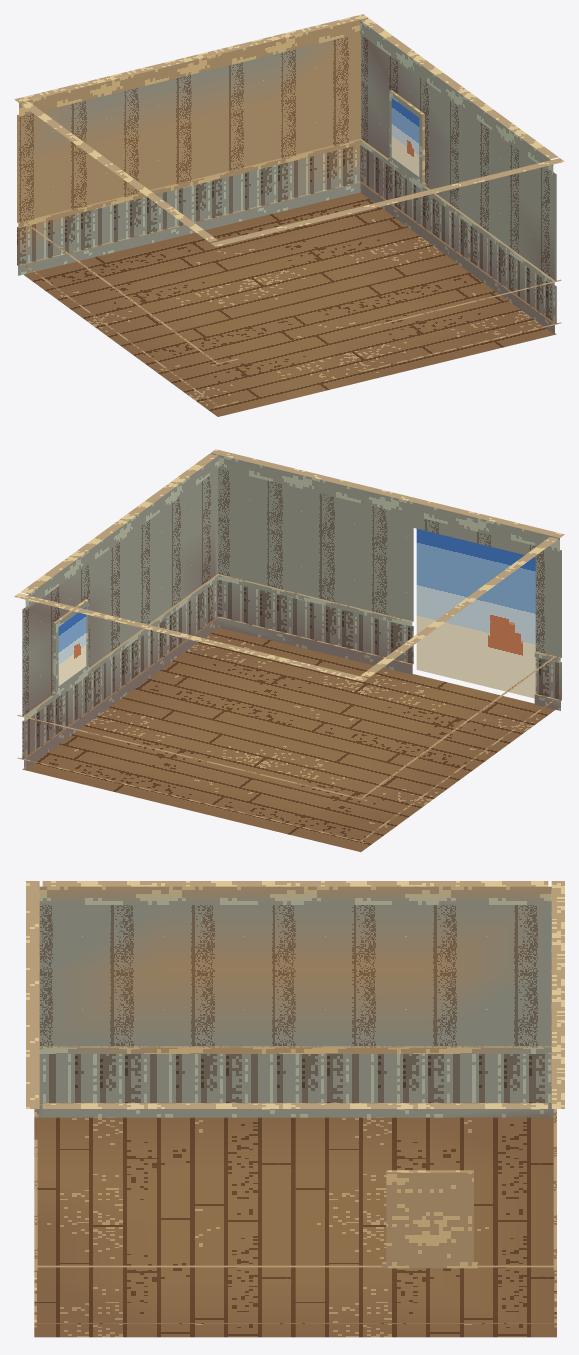
Rendered from wtown.room__office.glb.
The picture shows the model from 3 angles, top to bottom: view 1: azimuth 30°, elevation 25°; view 2: azimuth 150°, elevation 25°; view 3: azimuth 270°, elevation 25°; orthographic projection. The views are drawn at different scales.
Parts seen in each view (by area): view 1: kit_shell_walls, kit_shell_floor, kit_card_views, kit_windows; view 2: kit_shell_walls, kit_shell_floor, kit_card_door_views, kit_card_views, kit_windows; view 3: kit_shell_walls, kit_shell_floor, kit_windows.
Part boxes in pixels (x1,y1,x2,y2): kit_shell_walls: [14, 14, 564, 408]; kit_shell_floor: [24, 192, 556, 416]; kit_card_views: [391, 98, 419, 176]; kit_windows: [388, 90, 426, 187]; kit_shell_walls: [14, 449, 564, 843]; kit_shell_floor: [22, 627, 555, 851]; kit_card_door_views: [416, 529, 535, 698]; kit_card_views: [58, 607, 86, 685]; kit_windows: [51, 599, 90, 696]; kit_shell_walls: [26, 881, 564, 1327]; kit_shell_floor: [34, 1117, 556, 1337]; kit_windows: [382, 1170, 477, 1268].
Bounding box in the file's own units: 8 × 3.85 × 8.18.
6 materials, 6 textured.
